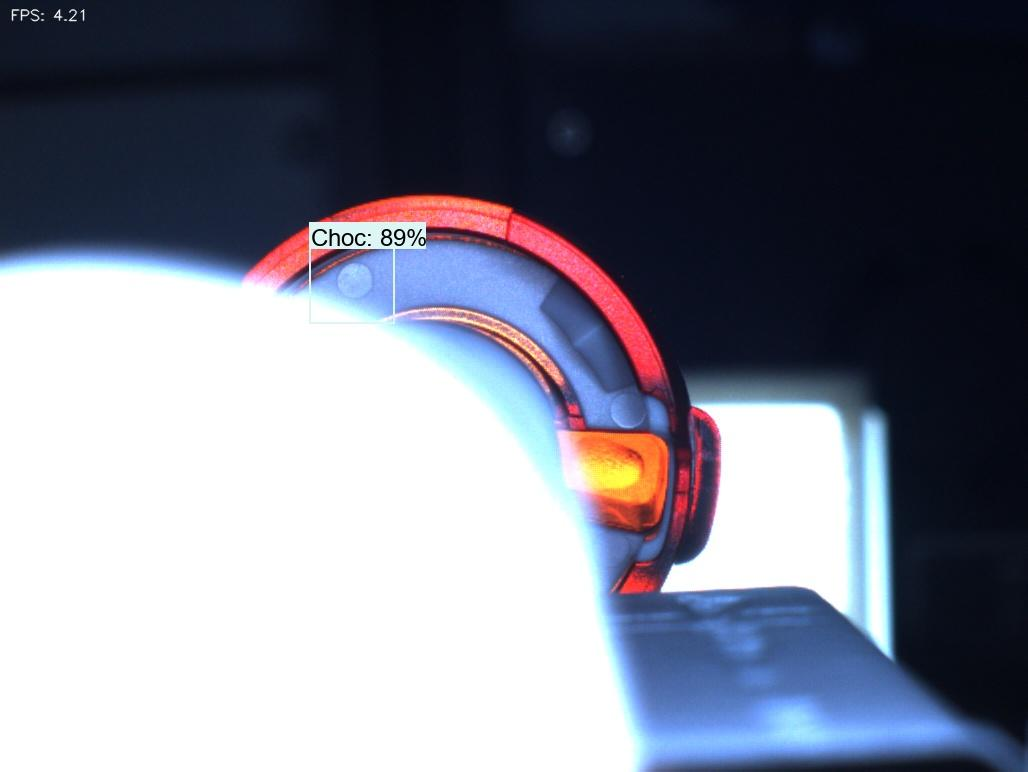Retassure: (569, 431, 650, 500)
